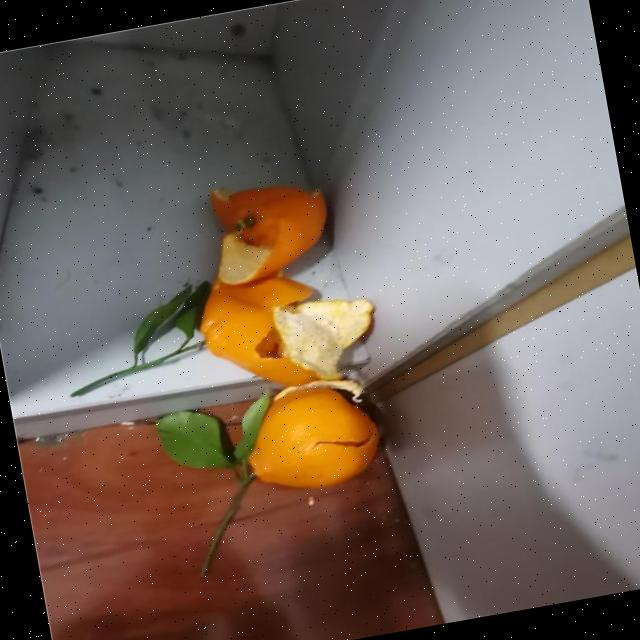orange-peel: (235, 372, 386, 500)
